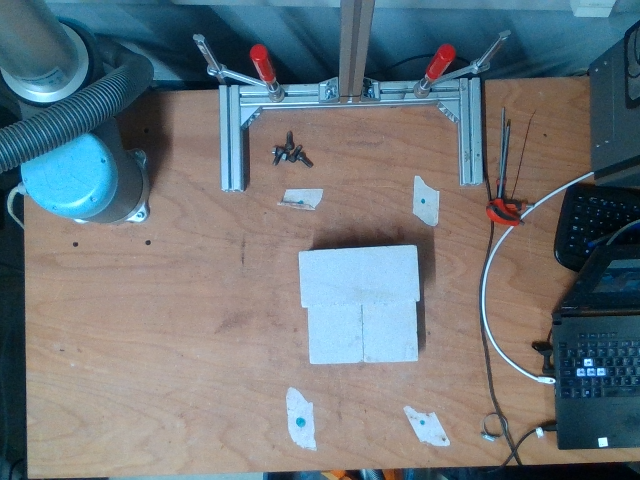brick: (299, 244, 420, 309)
